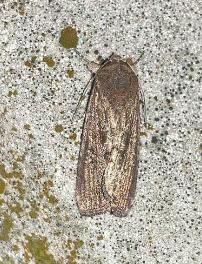army worm adult: (73, 43, 151, 220)
